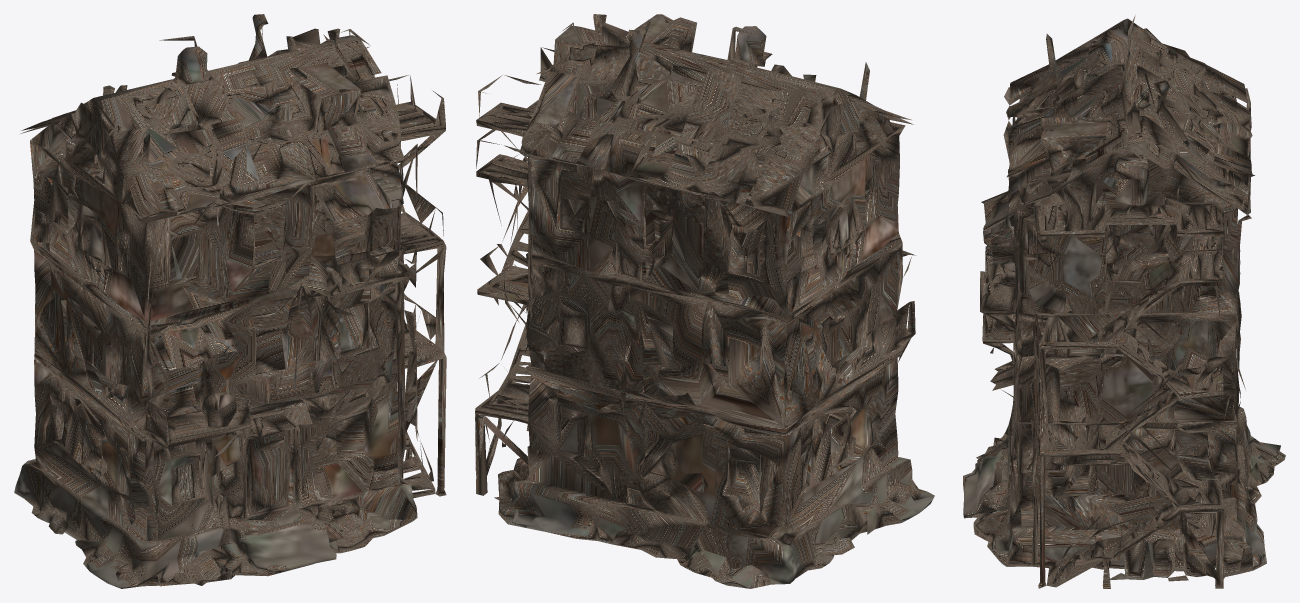
File: worlportblock.lod1.glb
The picture shows the model from 3 angles, left to right: view 1: azimuth 30°, elevation 25°; view 2: azimuth 150°, elevation 25°; view 3: azimuth 270°, elevation 25°; orthographic projection. The views are drawn at different scales.
Visible parts, largest first — view 1: worlportblock-centred; view 2: worlportblock-centred; view 3: worlportblock-centred.
Boxes of the visible parts, bbox=[...] form: worlportblock-centred: bbox=[14, 14, 446, 588]; worlportblock-centred: bbox=[475, 14, 934, 588]; worlportblock-centred: bbox=[963, 15, 1285, 588].
Size of the model in its own units: 12.28 by 16 by 10.14.
1 material, 1 textured.
